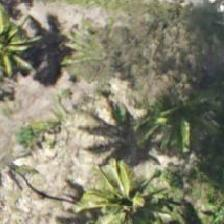coconut_tree: (80, 160, 170, 223)
